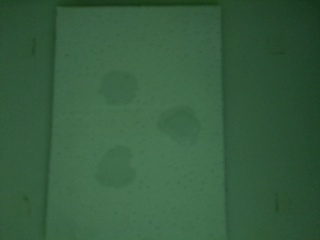Water_detected: (160, 99, 200, 143), (99, 151, 139, 192), (98, 68, 140, 105)
